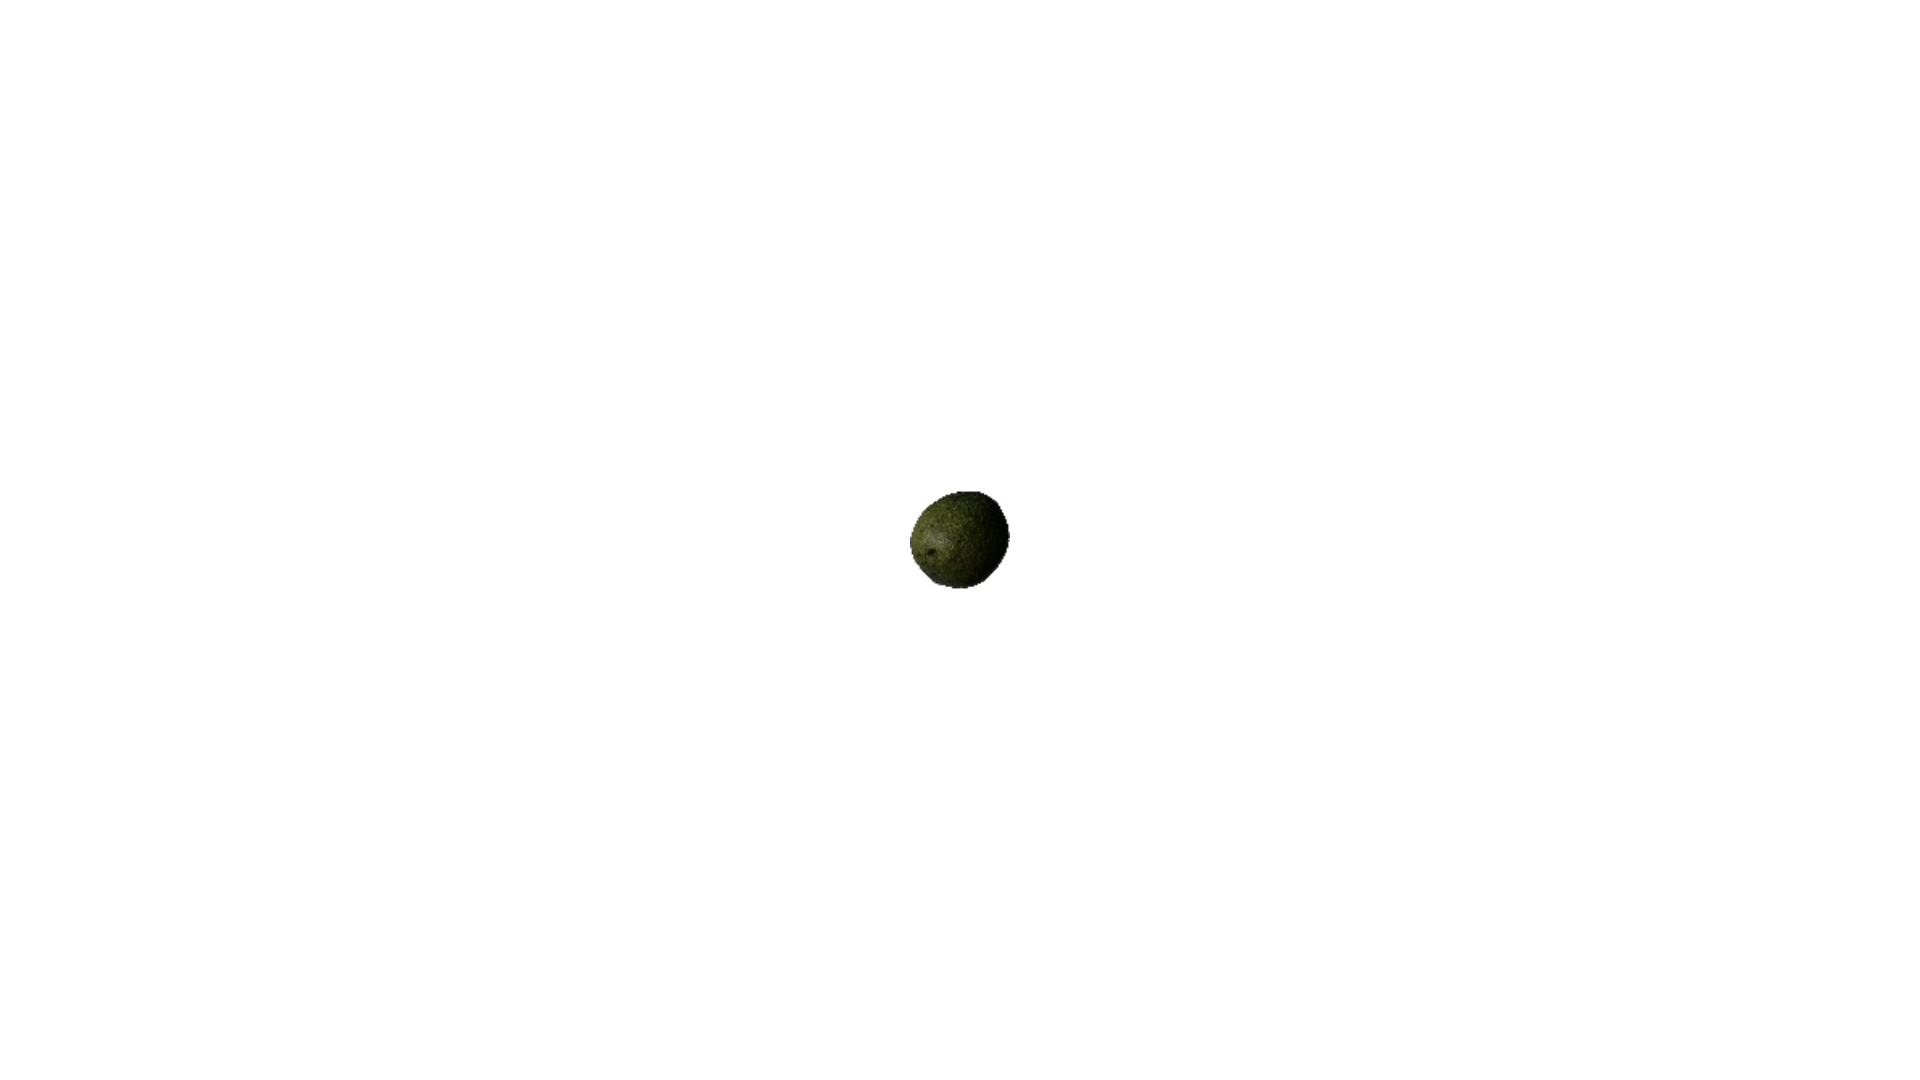abacate: (906, 491, 1011, 592)
